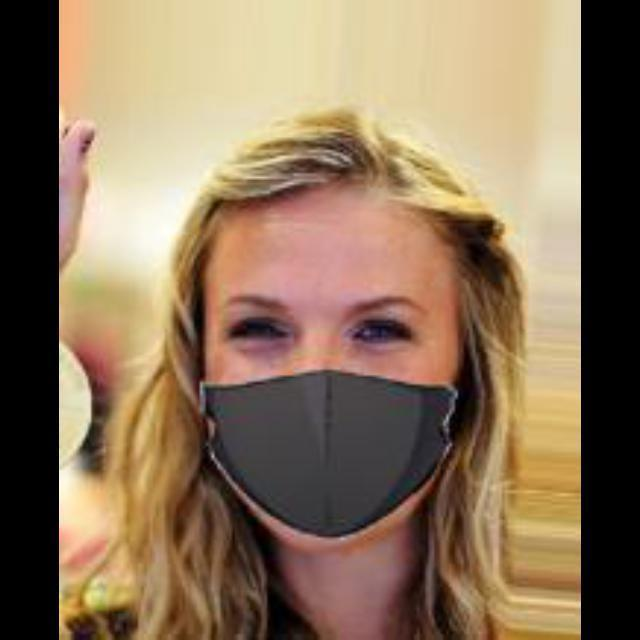1_mascarilla: (201, 372, 460, 542)
